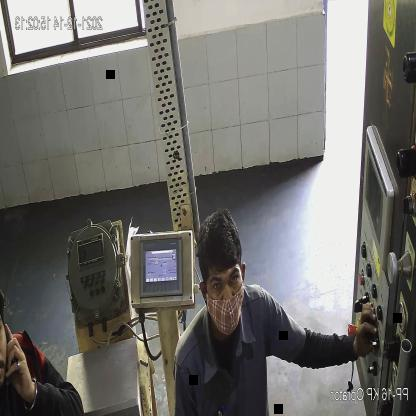no_goggles: (208, 264, 242, 296)
